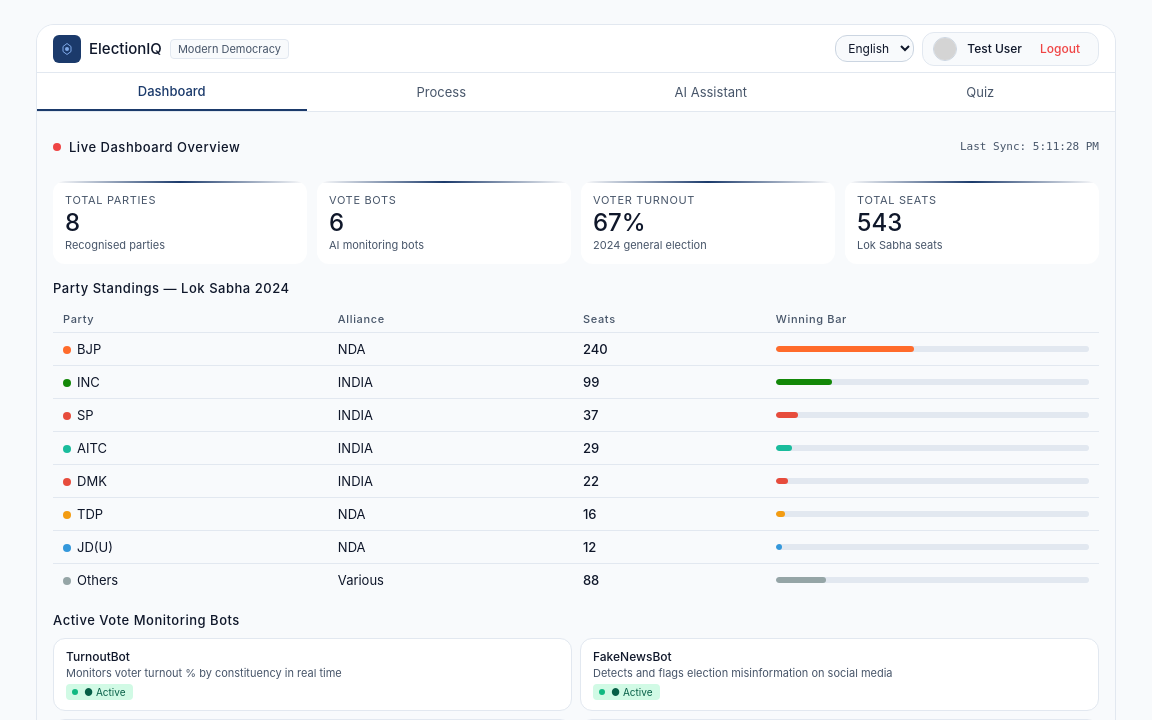
Test: opens the roadmap modal when the process panel roadmap button is clicked
Click the tab "Process" at (441, 92), box [306,73,576,111]
(page scrolled)
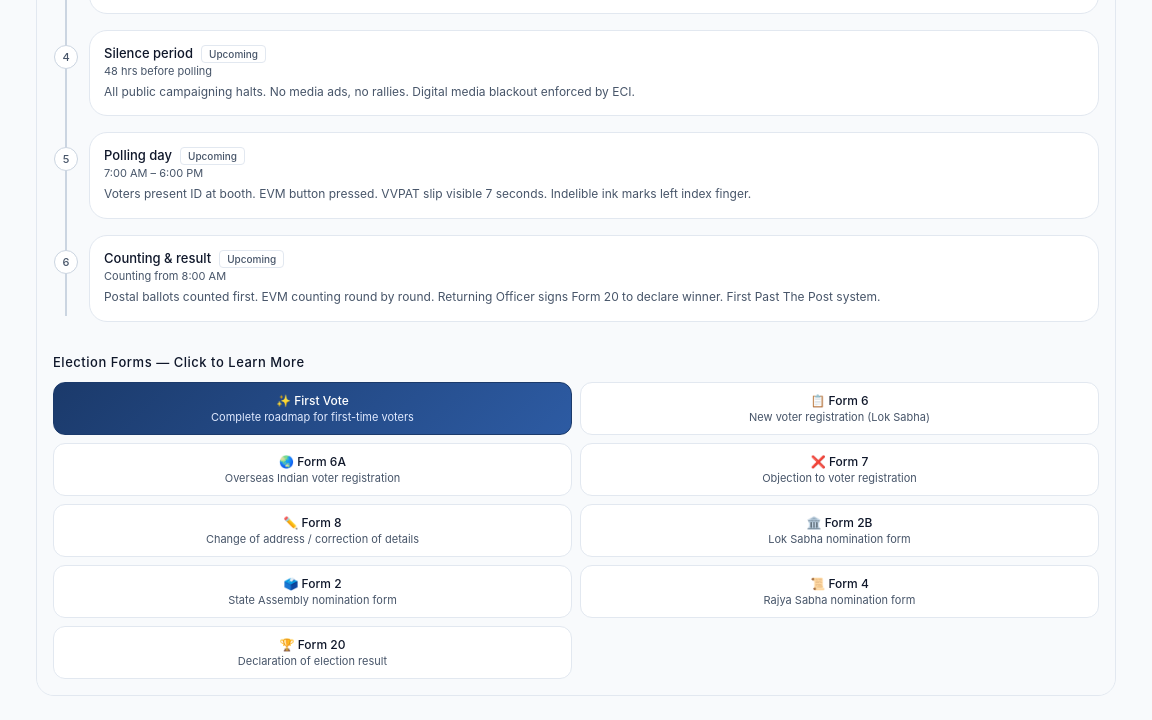
Click the button with aria-label "View First Vote Roadmap" at (312, 408), box [53,382,572,435]
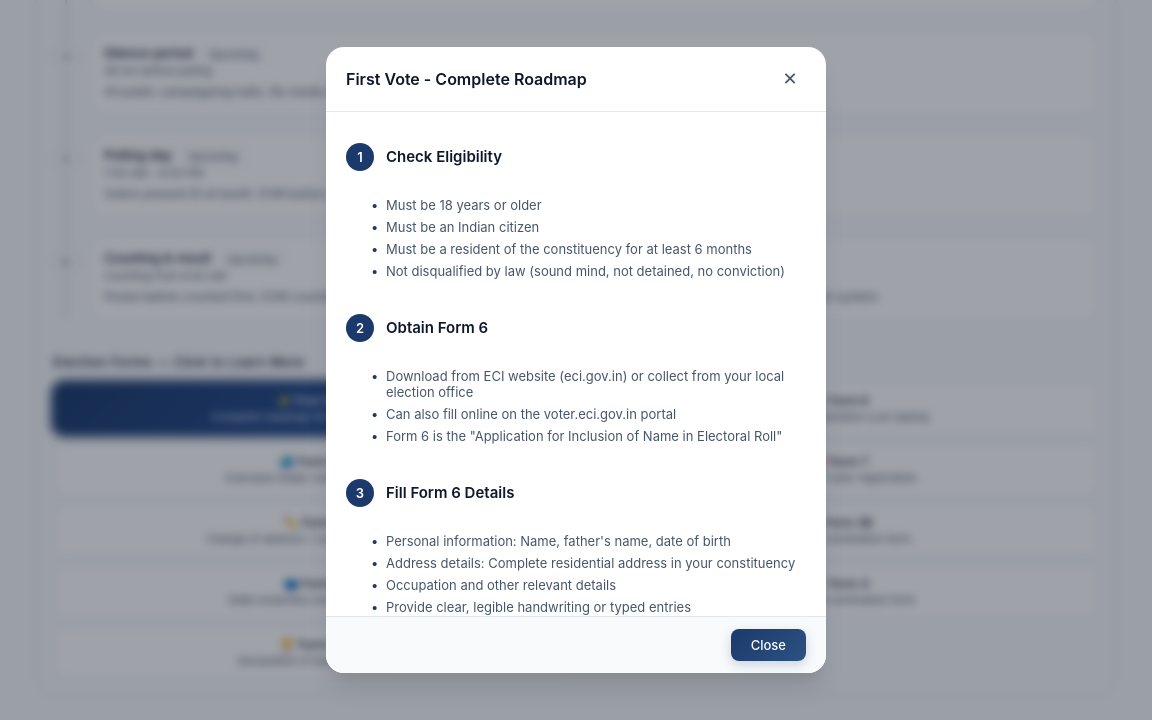
Expected: the heading "First Vote - Complete Roadmap" is shown, [346,69,587,89]
